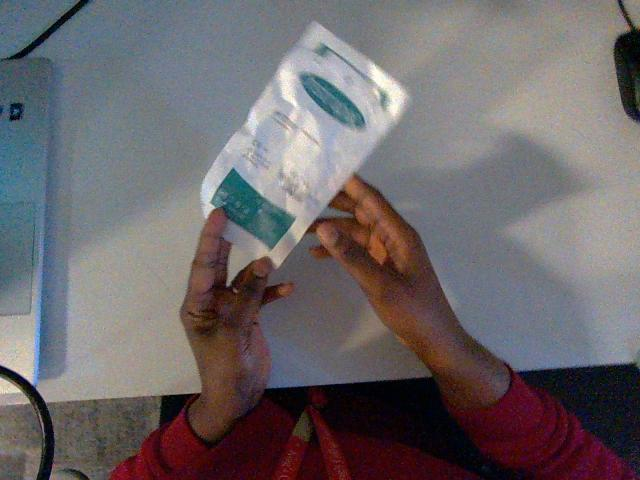gallipot: (201, 23, 407, 266)
